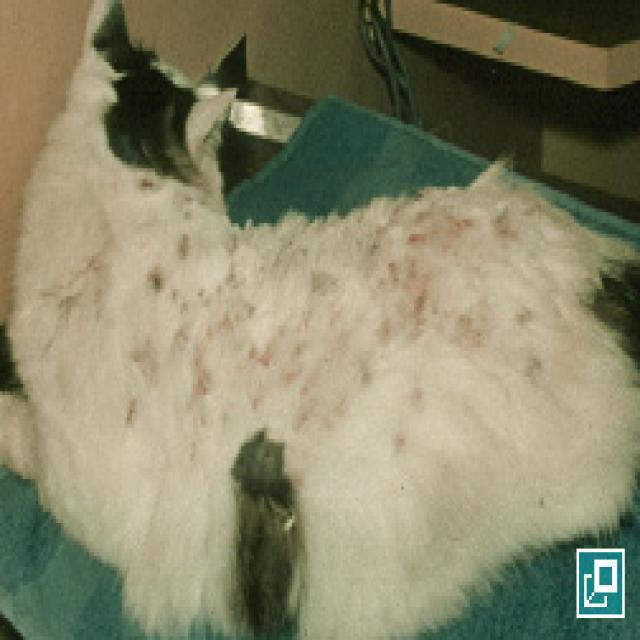di ung bo chet: (74, 191, 540, 477)
